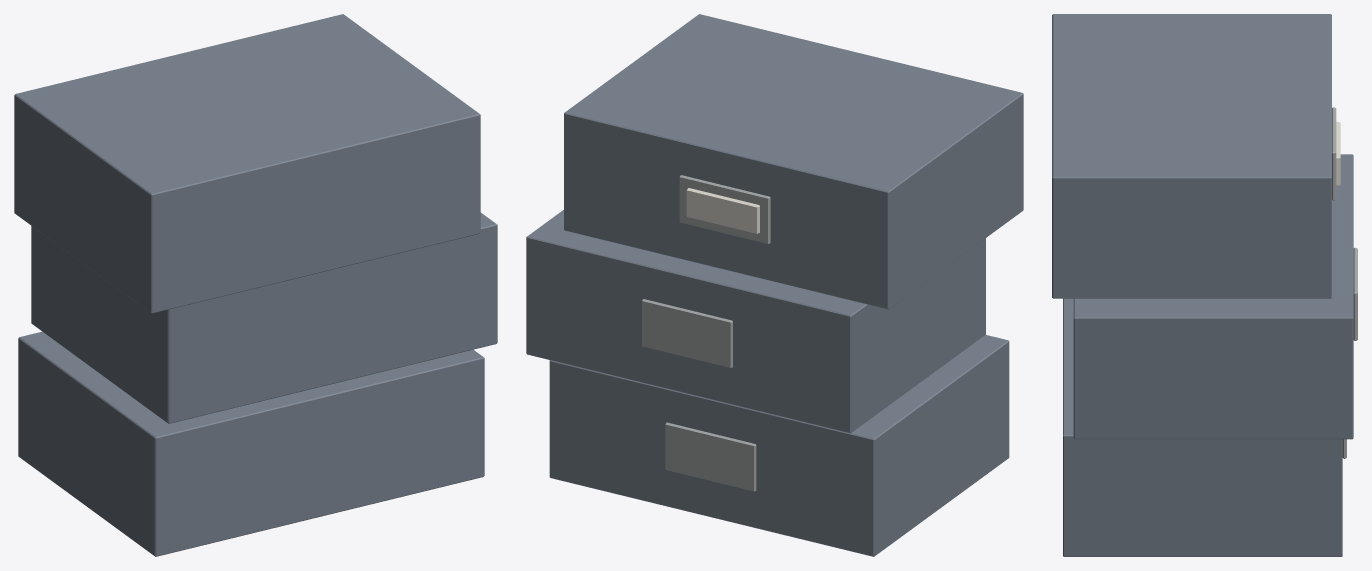
The model's file is prop_of_bond_boxes.glb.
The picture shows the model from 3 angles, left to right: view 1: azimuth 30°, elevation 25°; view 2: azimuth 150°, elevation 25°; view 3: azimuth 270°, elevation 25°; orthographic projection. The views are drawn at different scales.
Parts seen in each view (by area): view 1: Bonds; view 2: Bonds; view 3: Bonds.
Boxes of the visible parts, left/top/right/bottom form: Bonds: left=14, top=14, right=497, bottom=556; Bonds: left=526, top=14, right=1023, bottom=556; Bonds: left=1052, top=14, right=1357, bottom=556.
Bounding box in the file's own units: 0.39 × 0.385 × 0.284.
